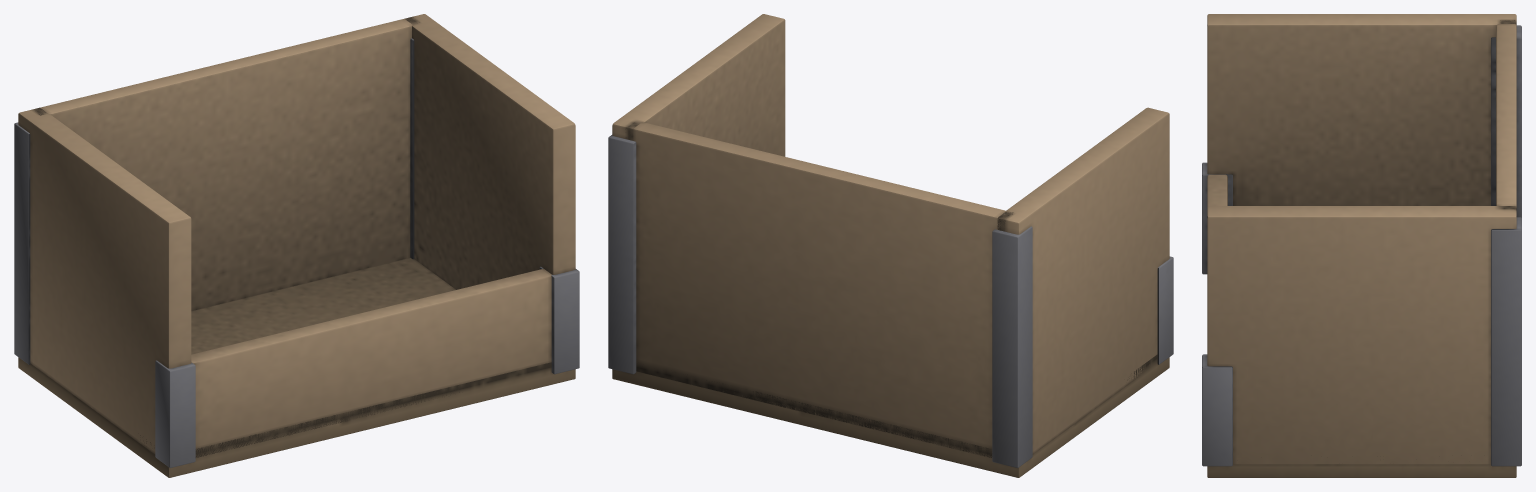
File: woodbox_frame.glb
3 renders of one model, left to right at view 1: azimuth 30°, elevation 25°; view 2: azimuth 150°, elevation 25°; view 3: azimuth 270°, elevation 25°, orthographic. The views are drawn at different scales.
Parts seen in each view (by area): view 1: woodbox_frame; view 2: woodbox_frame; view 3: woodbox_frame.
Boxes of the visible parts, bbox=[...] form: woodbox_frame: bbox=[14, 14, 579, 477]; woodbox_frame: bbox=[608, 14, 1173, 477]; woodbox_frame: bbox=[1202, 14, 1521, 477].
Bounding box in the file's own units: 0.705 × 0.42 × 0.465.
1 material, 1 textured.
